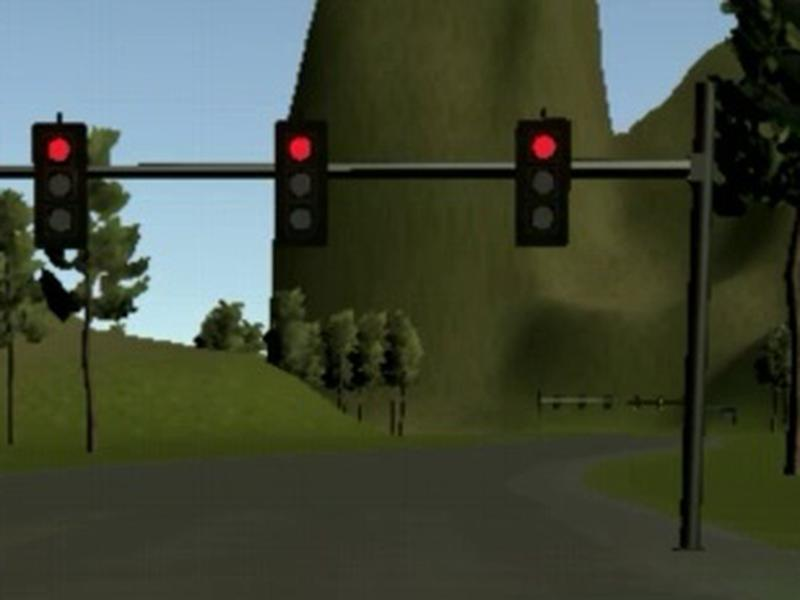Red: (516, 118, 572, 247), (274, 121, 329, 248), (33, 122, 87, 249)
